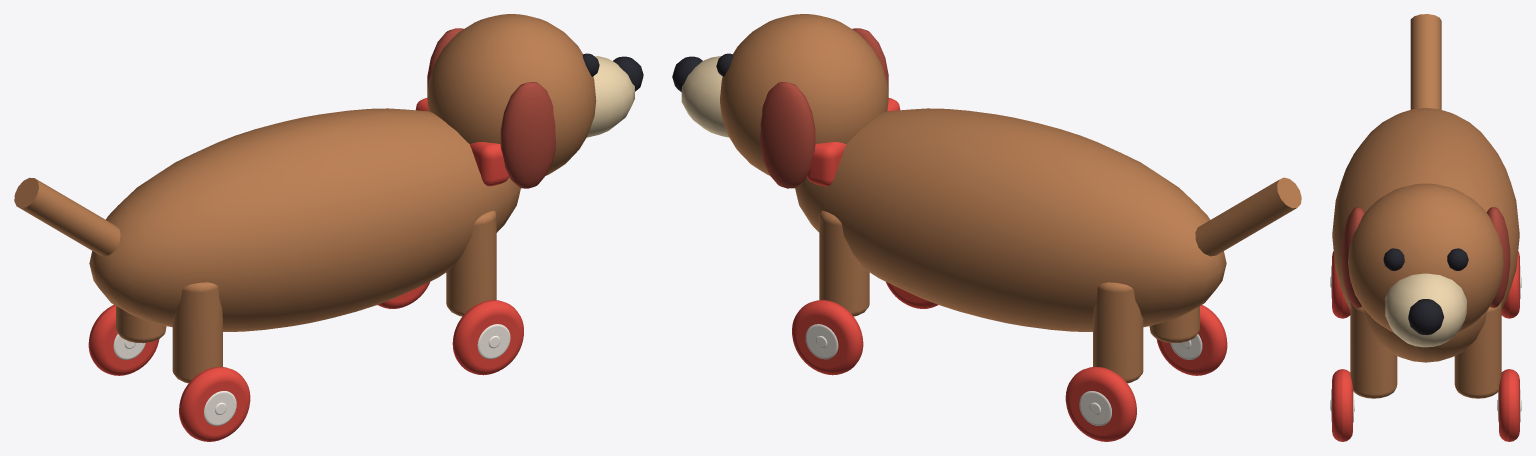
The model's file is dog.glb.
The picture shows the model from 3 angles, left to right: view 1: azimuth 30°, elevation 25°; view 2: azimuth 150°, elevation 25°; view 3: azimuth 270°, elevation 25°; orthographic projection. The views are drawn at different scales.
Parts seen in each view (by area): view 1: dog; view 2: dog; view 3: dog.
Part boxes in pixels (x1,y1,x2,y2): dog: (14, 14, 643, 441); dog: (672, 14, 1301, 441); dog: (1330, 14, 1521, 441).
Size of the model in its own units: 1.28 by 0.5899 by 0.3664.
Materials: 1 (1 with a texture image).
